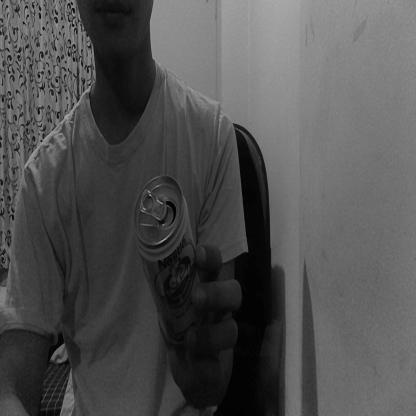alumunium_can: (136, 170, 208, 346)
